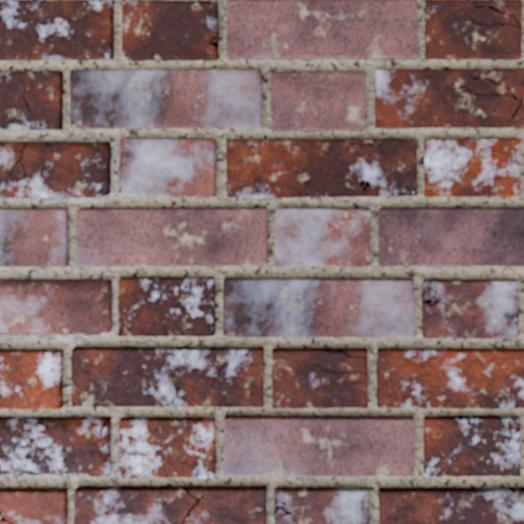brick: (72, 347, 263, 406), (224, 416, 413, 475), (227, 0, 416, 58), (70, 70, 261, 127), (224, 279, 413, 336), (227, 139, 416, 196), (76, 209, 266, 265), (377, 349, 523, 408), (376, 69, 523, 127), (379, 208, 523, 265), (74, 486, 265, 523), (0, 0, 113, 59), (0, 279, 112, 335), (424, 416, 519, 476), (119, 418, 215, 477), (122, 1, 217, 59), (426, 0, 521, 58), (118, 278, 214, 335), (422, 280, 518, 337), (273, 349, 367, 407), (120, 139, 215, 196), (425, 139, 520, 195), (271, 72, 364, 129), (276, 209, 369, 265), (379, 487, 523, 523), (0, 209, 68, 265), (0, 350, 62, 408), (0, 71, 62, 128), (275, 487, 368, 523), (0, 488, 67, 523), (330, 349, 366, 356), (275, 511, 294, 523)
broken_brick: (0, 416, 111, 477), (0, 141, 111, 198)
crack: (465, 1, 522, 30), (422, 289, 455, 318), (180, 488, 205, 523), (314, 362, 367, 375), (273, 499, 299, 523), (325, 349, 367, 360), (338, 139, 383, 147), (207, 36, 218, 50), (0, 511, 12, 523), (199, 0, 217, 4), (69, 106, 77, 114), (516, 515, 523, 523), (224, 314, 230, 321), (118, 186, 123, 193), (106, 444, 111, 449)
